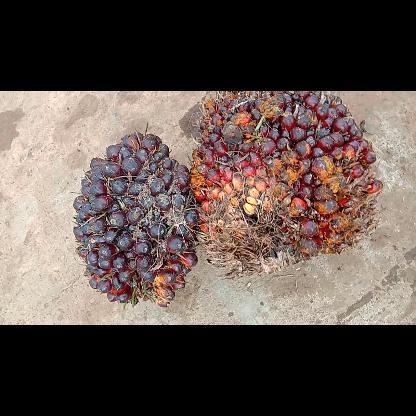TBS masak: (189, 91, 381, 277)
TBS mentah: (72, 121, 202, 306)
